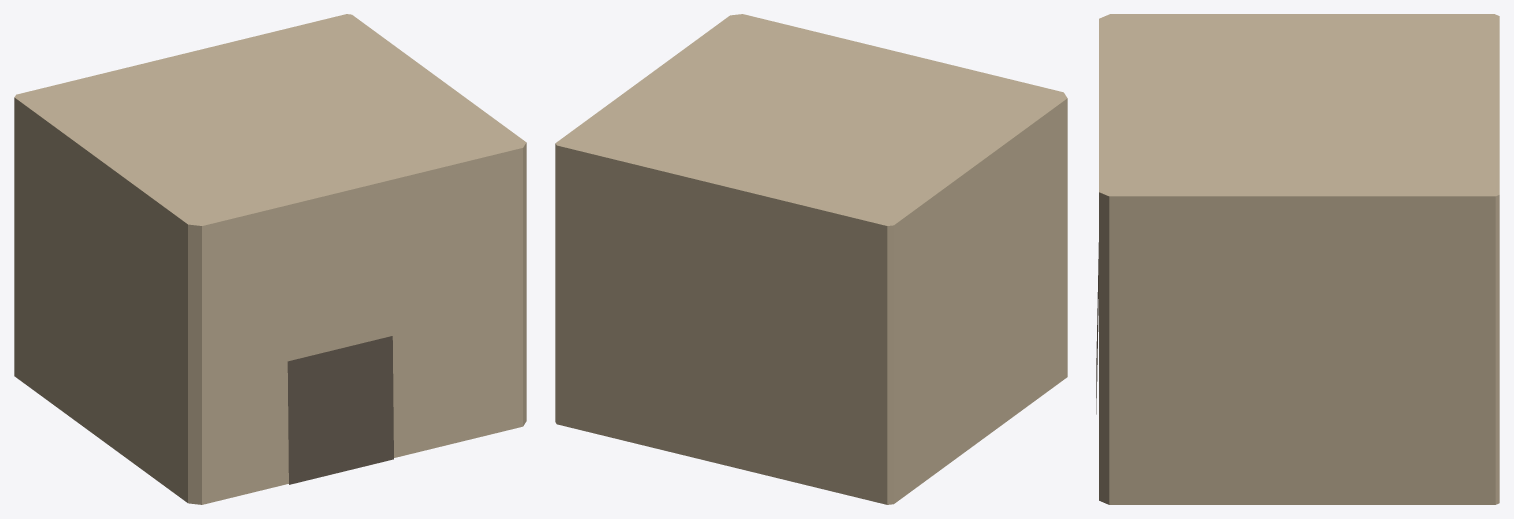
The model's file is loin-etape-1.glb.
3 renders of one model, left to right at view 1: azimuth 30°, elevation 25°; view 2: azimuth 150°, elevation 25°; view 3: azimuth 270°, elevation 25°, orthographic. The views are drawn at different scales.
Visible parts, largest first — view 1: loin; view 2: loin; view 3: loin.
Part boxes in pixels (bbox=[...]): loin: bbox=[14, 14, 526, 504]; loin: bbox=[555, 14, 1067, 504]; loin: bbox=[1096, 14, 1499, 504].
Bounding box in the file's own units: 0.5951 × 0.4692 × 0.5563.
